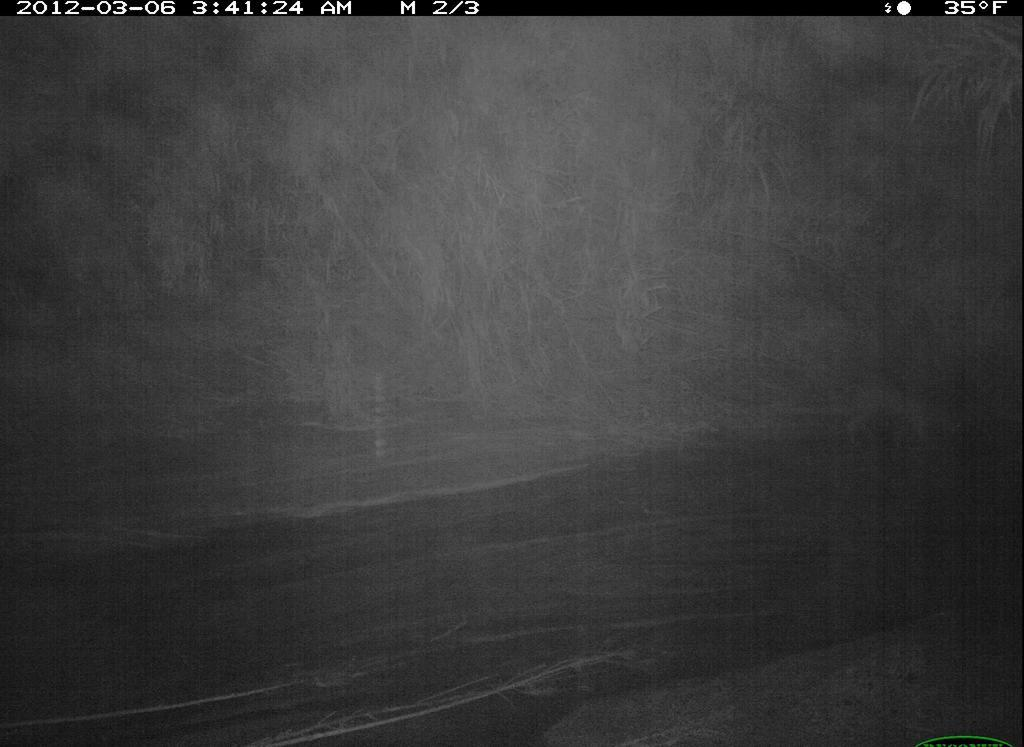bobcat: (826, 361, 968, 462)
